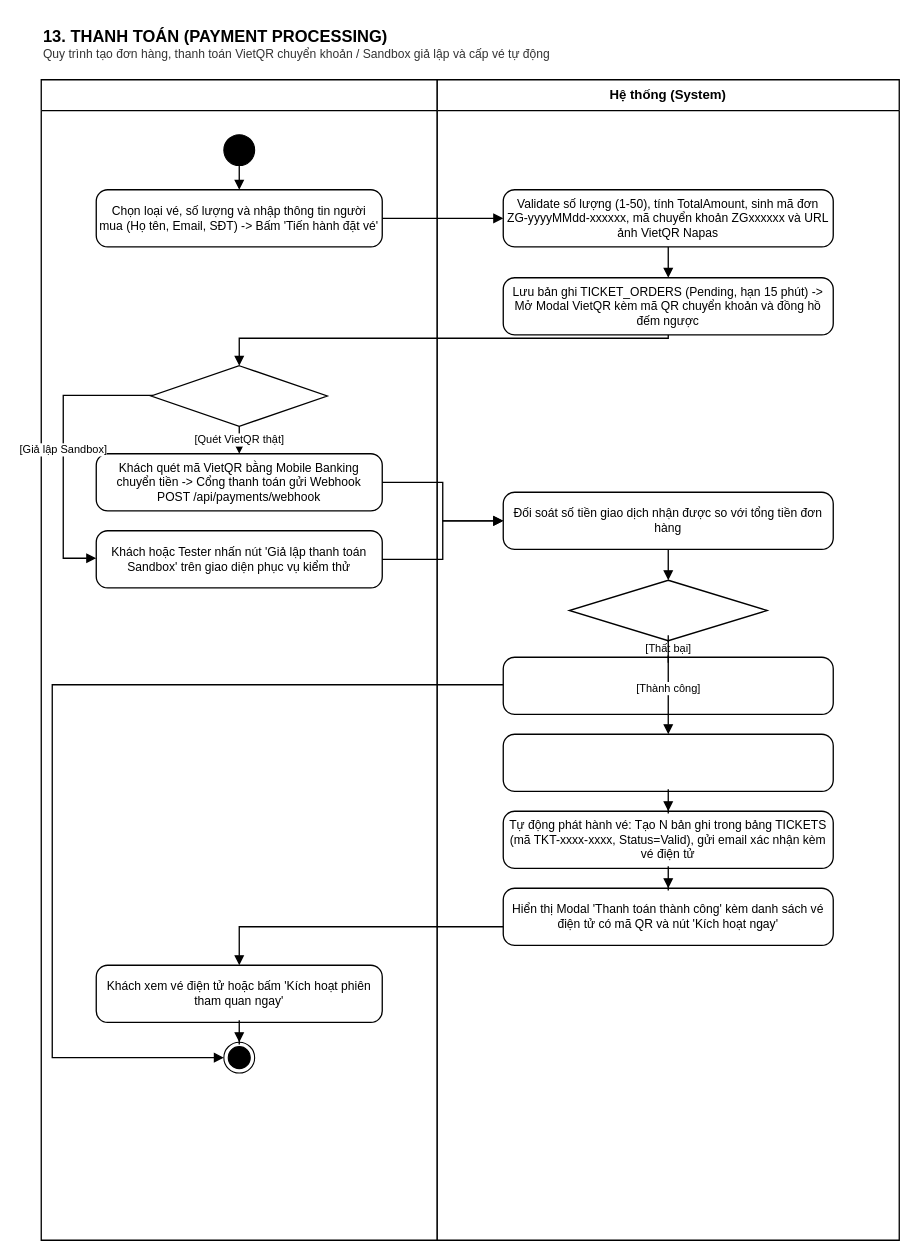
Some shapes in this 919 by 1260 pixel diagram are drawn without their labels. The box of each missing label's shape, as (x1, y1, x2, y2) in pixels:
Cập nhật PaymentStatus = Failed trong TICKET_ORDERS và thông báo lỗi thanh toán: (502, 656, 833, 715)
Cập nhật PaymentStatus = Paid, lưu PaidAt, sinh TransactionReference: (502, 733, 833, 792)
Người dùng (Visitor): (40, 79, 437, 1240)
Phương thức thực hiện thanh toán?: (150, 365, 327, 426)
Thanh toán thành công và đủ tiền?: (568, 579, 767, 641)
